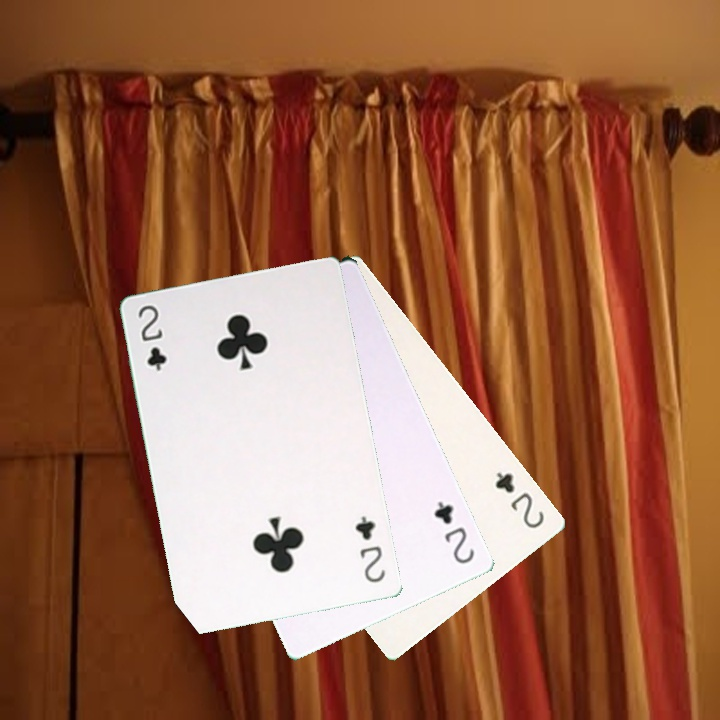2c: (491, 467, 547, 532), (430, 497, 477, 567), (351, 511, 388, 585), (133, 301, 170, 374)
